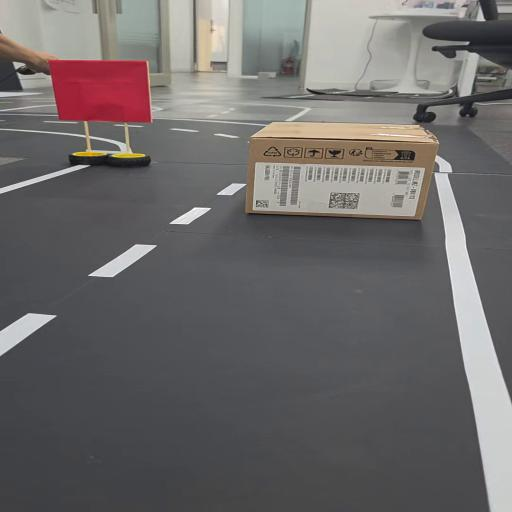Box: (251, 123, 452, 224)
Sign_A: (43, 62, 156, 172)
